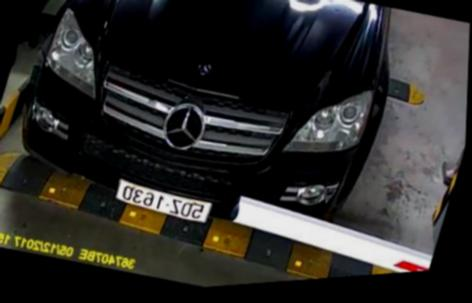License_Plate: (104, 171, 219, 239)
